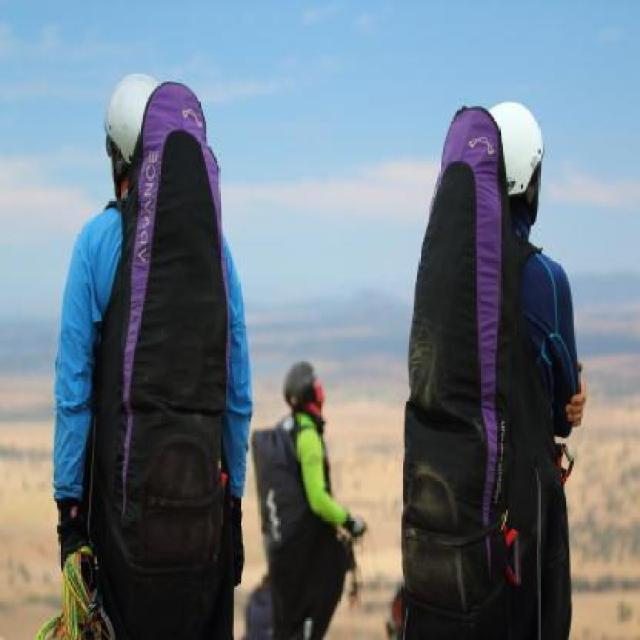backpack: (101, 79, 232, 582), (397, 99, 520, 622), (248, 417, 314, 605)
